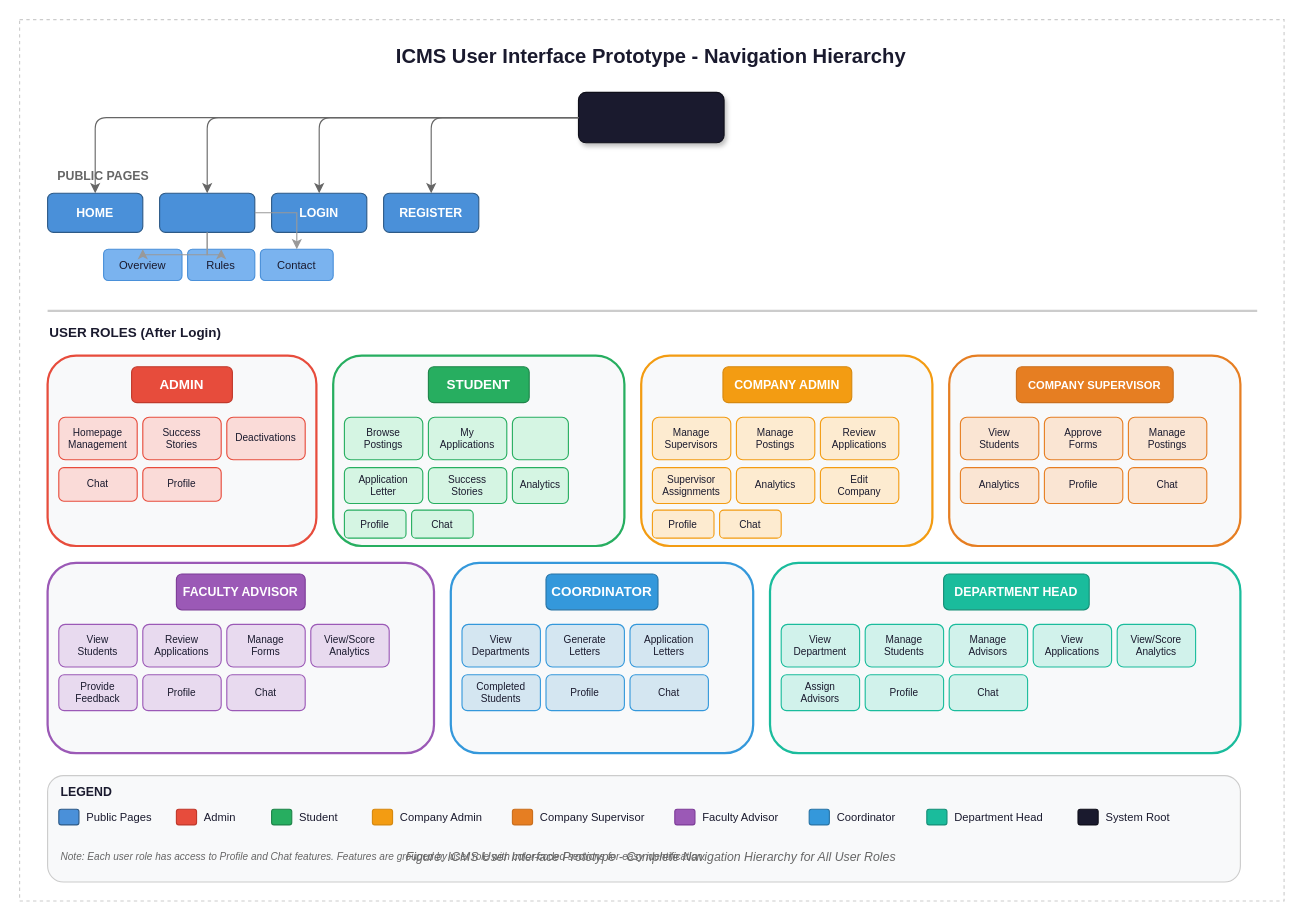
The diagram is 1304 pixels wide and 921 high, and some of its shapes have lost their labels. The centre of each missing label's shape, as x and y in pixels:
Forms: pixel 539 438
HELP: pixel 206 212
ICMS: pixel 652 119
